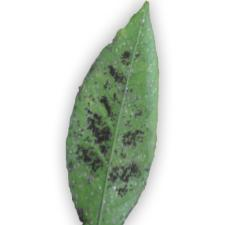Melanose: (59, 23, 162, 217)
